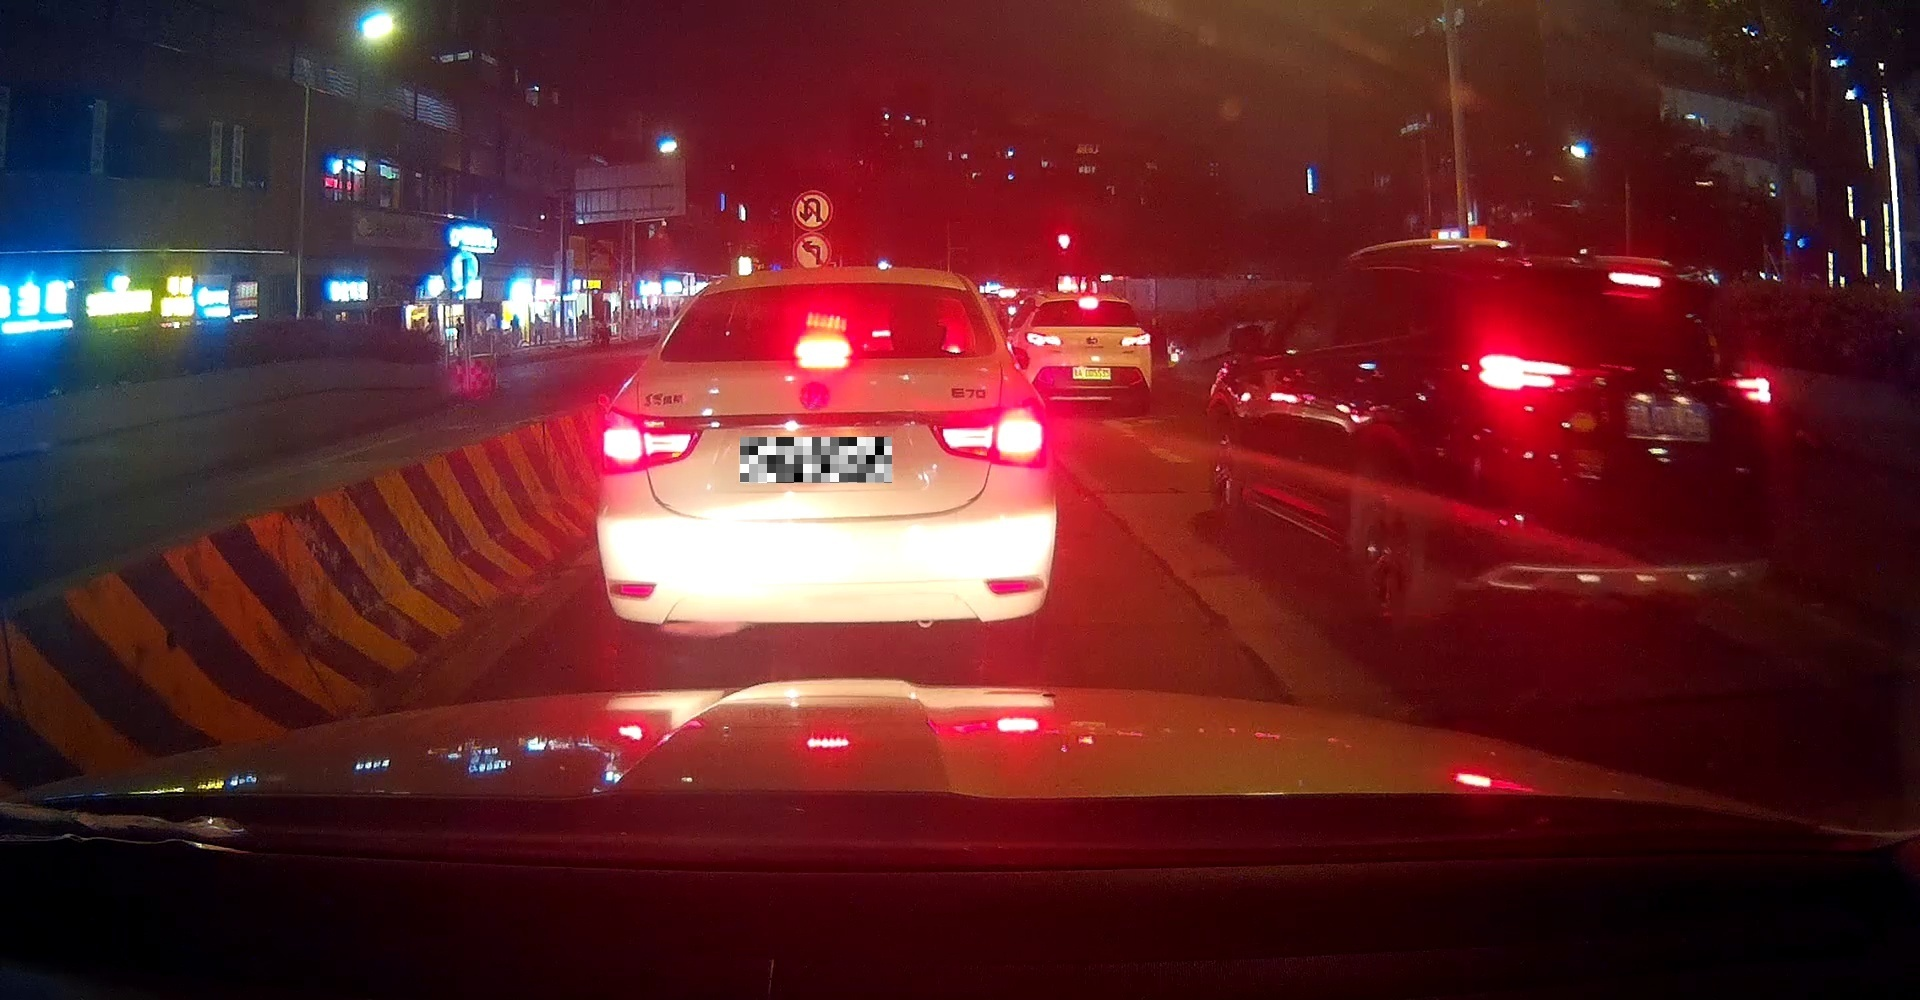L_light: (599, 409, 702, 475), (1478, 354, 1571, 391)
R_light: (926, 397, 1050, 467)
T_light: (796, 341, 852, 359), (1608, 272, 1662, 289)
day-no: (1730, 377, 1771, 404)
night-brake: (596, 266, 1055, 647), (1457, 250, 1777, 629)
plate_1: (740, 437, 891, 484)
